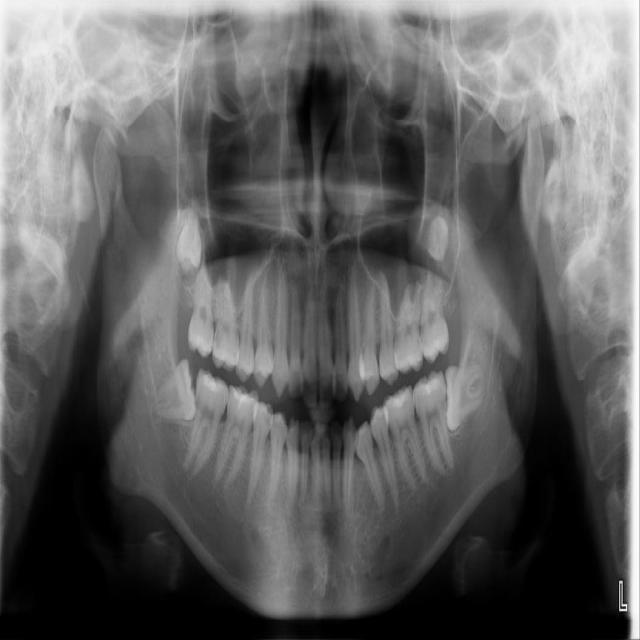impacted tooth: (145, 356, 197, 421), (446, 359, 485, 430)
